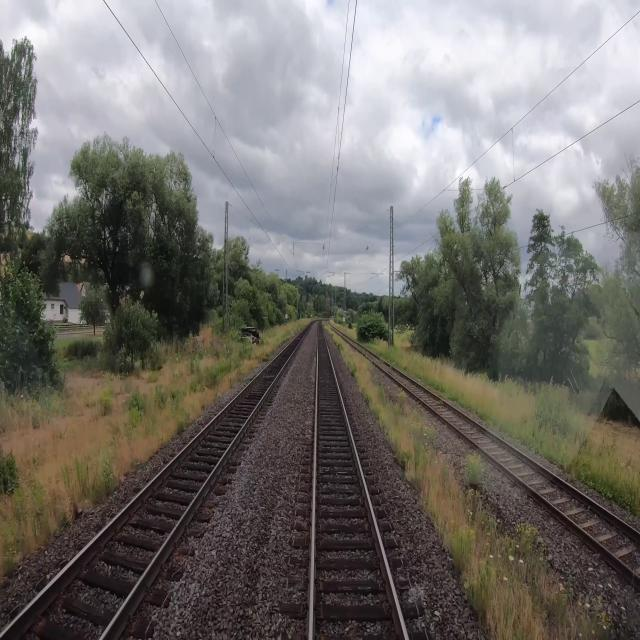Plant: (323, 322, 613, 639), (463, 450, 484, 484), (398, 390, 407, 400)
